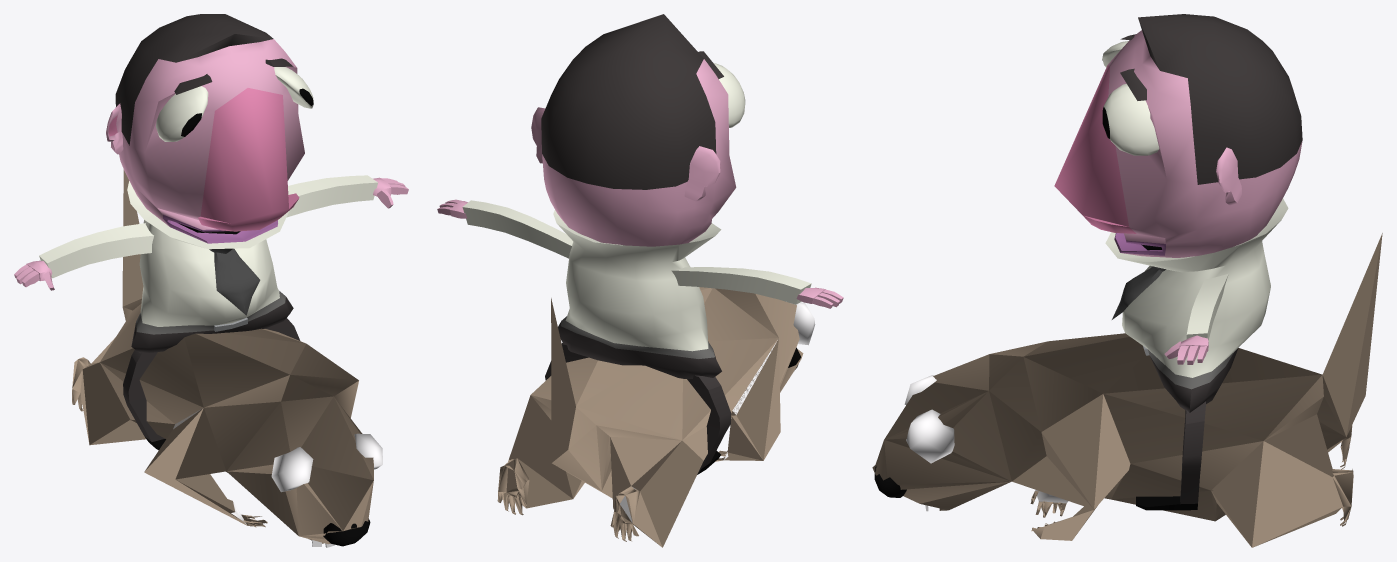
The model's file is pilotmarmotta.fbx.
3 renders of one model, left to right at view 1: azimuth 30°, elevation 25°; view 2: azimuth 150°, elevation 25°; view 3: azimuth 270°, elevation 25°, orthographic. The views are drawn at different scales.
Parts seen in each view (by area): view 1: MANLEGS, marmottamain, bracciodx, bracciodx_2, bracciosx, gambadx, avabdx, coda, avgdx, piededx; view 2: MANLEGS, marmottamain, avgdx, avgsx, bracciodx, bracciodx_2, bracciosx, coda, gambadx, piedesx, piededx, avabdx; view 3: MANLEGS, marmottamain, avgsx, bracciosx_2, coda, gambasx, bracciosx, avabsx, piedesx.
Boxes of the visible parts, x1,y1,x2,y2 form: MANLEGS: [106, 14, 313, 450]; marmottamain: [100, 298, 382, 547]; bracciodx: [14, 223, 153, 290]; bracciodx_2: [144, 408, 225, 479]; bracciosx: [286, 175, 408, 217]; gambadx: [89, 363, 145, 445]; avabdx: [145, 472, 247, 525]; coda: [122, 169, 143, 306]; avgdx: [80, 337, 115, 444]; piededx: [72, 357, 90, 411]; MANLEGS: [531, 14, 745, 474]; marmottamain: [531, 287, 815, 498]; avgdx: [610, 436, 682, 547]; avgsx: [506, 395, 572, 508]; bracciodx: [671, 267, 843, 308]; bracciodx_2: [731, 338, 780, 460]; bracciosx: [437, 199, 573, 258]; coda: [551, 298, 575, 462]; gambadx: [663, 441, 703, 546]; piedesx: [497, 458, 529, 515]; piededx: [610, 486, 639, 541]; avabdx: [724, 416, 763, 460]; MANLEGS: [1054, 14, 1302, 510]; marmottamain: [872, 333, 1346, 521]; avgsx: [1252, 414, 1343, 547]; bracciosx_2: [1012, 394, 1130, 509]; coda: [1322, 233, 1382, 436]; gambasx: [1211, 441, 1263, 547]; bracciosx: [1164, 273, 1228, 364]; avabsx: [1040, 506, 1097, 540]; piedesx: [1332, 469, 1353, 526].
Size of the model in its own units: 130 by 147 by 134.
4 materials, 1 textured.
